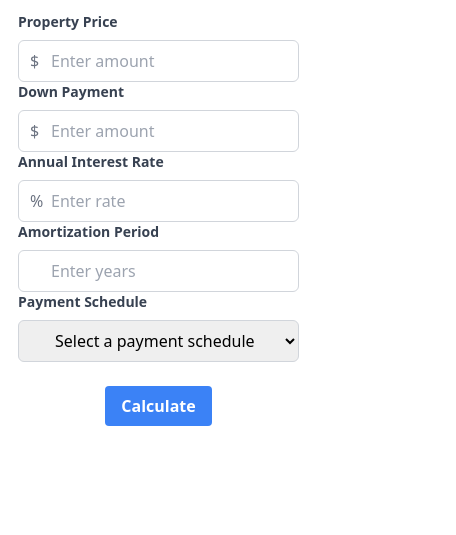
Test: MortgageForm › displays error message for invalid down payment
In the number field with test id "propertyPrice": coordinates (158, 61) [18, 40, 299, 82], type "100000"
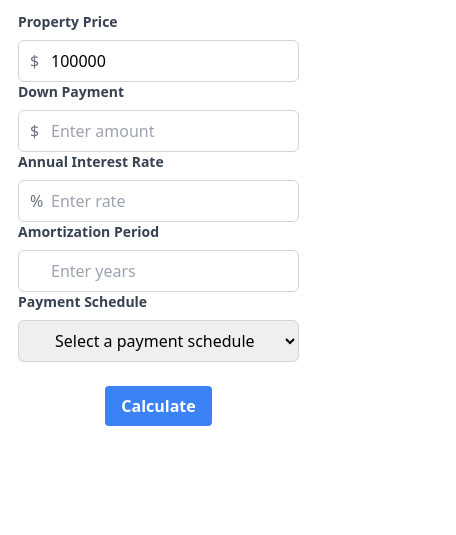
In the number field with test id "downPayment": coordinates (158, 131) [18, 110, 299, 152], type "4000"
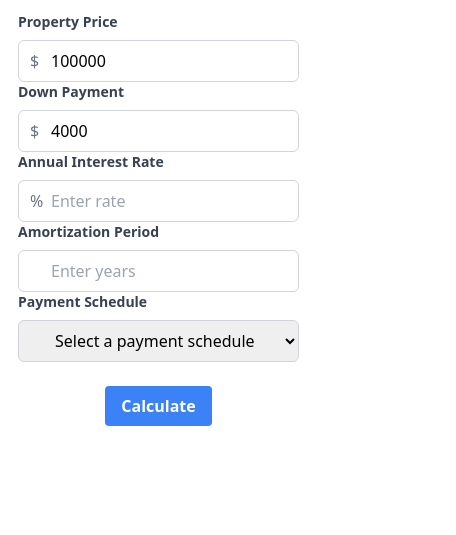
Click the button "Calculate": coordinates (158, 406) [105, 386, 212, 426]
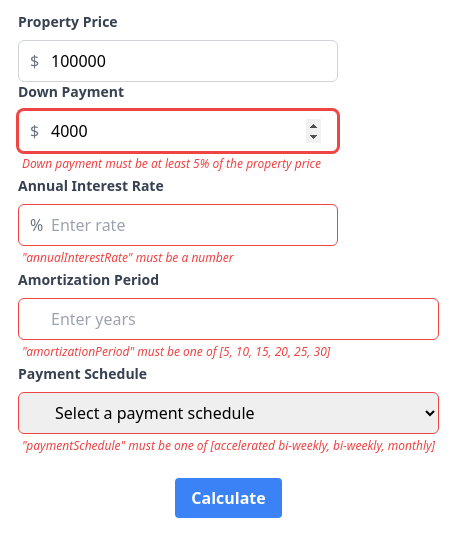
Result: the text "Down payment must be at least 5% of the property price" is shown at [22, 155, 321, 172]
